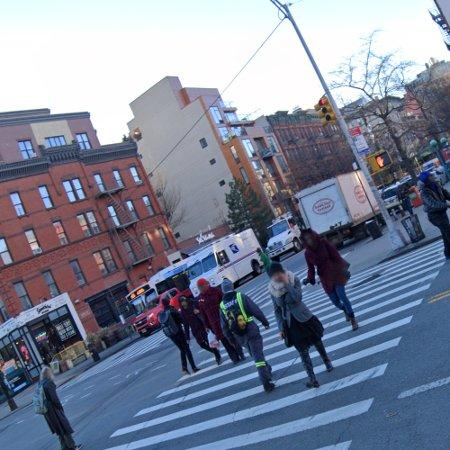crosswalks: (105, 243, 445, 450)
